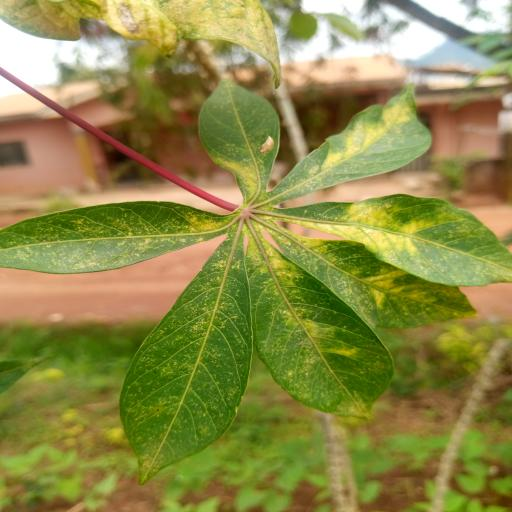Cassava_Mosaic: (5, 68, 512, 479)
